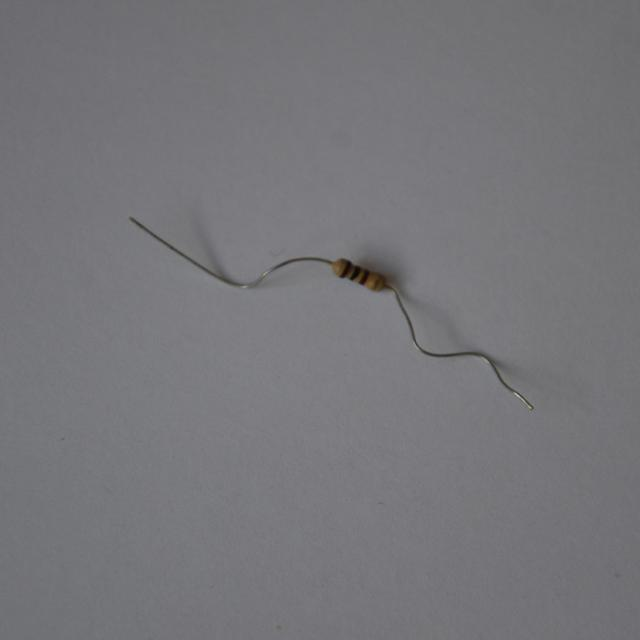Resistor Carbon-Film: (330, 258, 388, 293)
